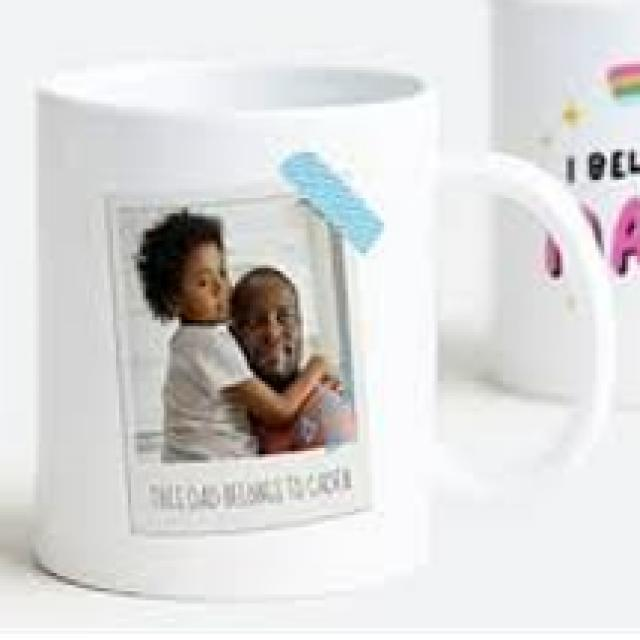taza: (38, 56, 614, 602)
